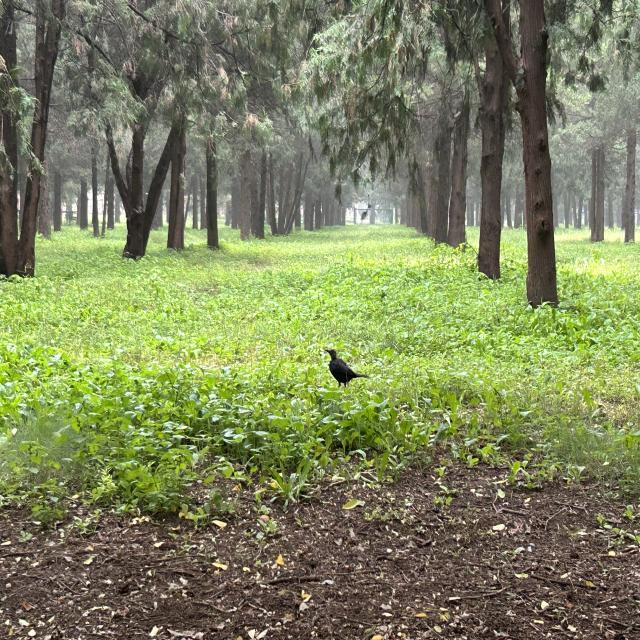bird: (324, 344, 368, 392)
